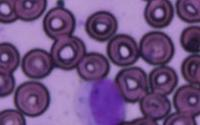L: (74, 77, 127, 124)
